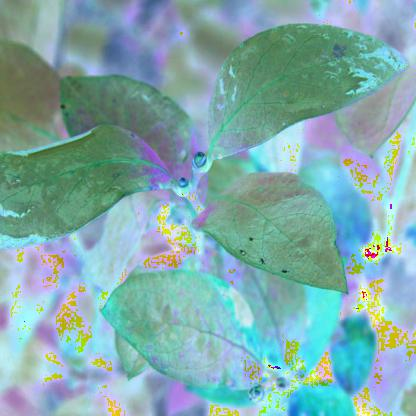Blueberry leaf: (207, 17, 415, 163), (1, 119, 181, 250), (97, 260, 270, 392), (190, 168, 358, 299)
